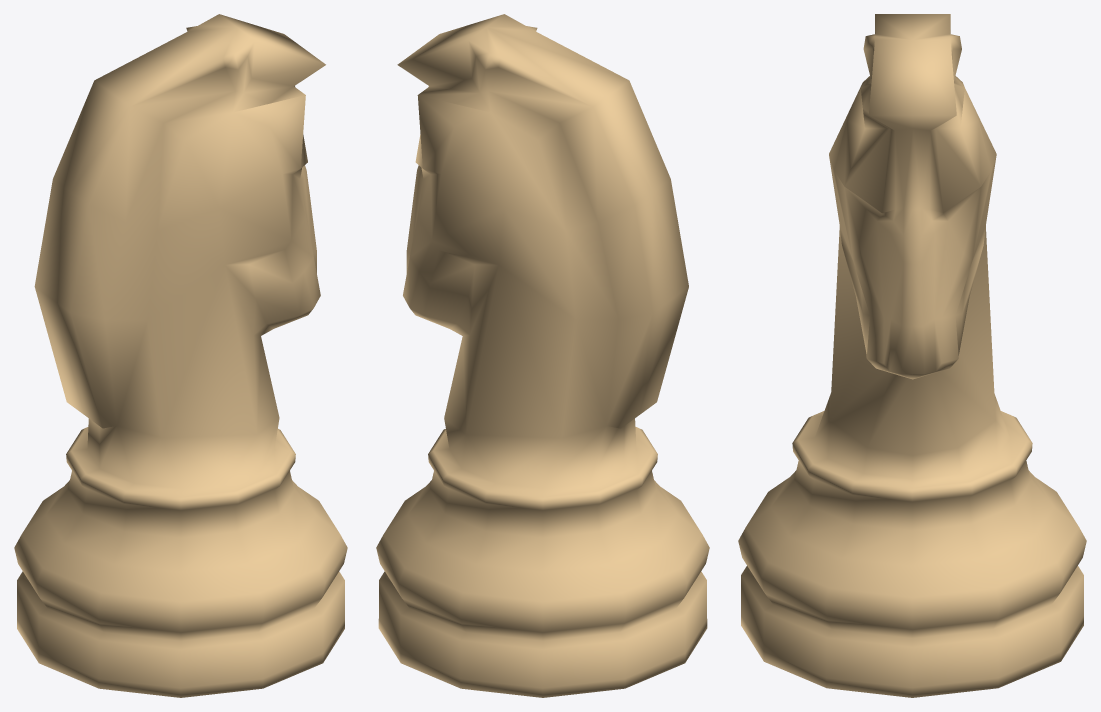
Rendered from white_knight.gltf.
3 renders of one model, left to right at view 1: azimuth 30°, elevation 25°; view 2: azimuth 150°, elevation 25°; view 3: azimuth 270°, elevation 25°, orthographic. The views are drawn at different scales.
Visible parts, largest first — view 1: knight; view 2: knight; view 3: knight.
Part boxes in pixels (x1=…): knight: x1=14, y1=14, x2=347, y2=697; knight: x1=376, y1=14, x2=709, y2=697; knight: x1=738, y1=14, x2=1086, y2=697.
Bounding box in the file's own units: 13.5 × 26.24 × 13.5.
